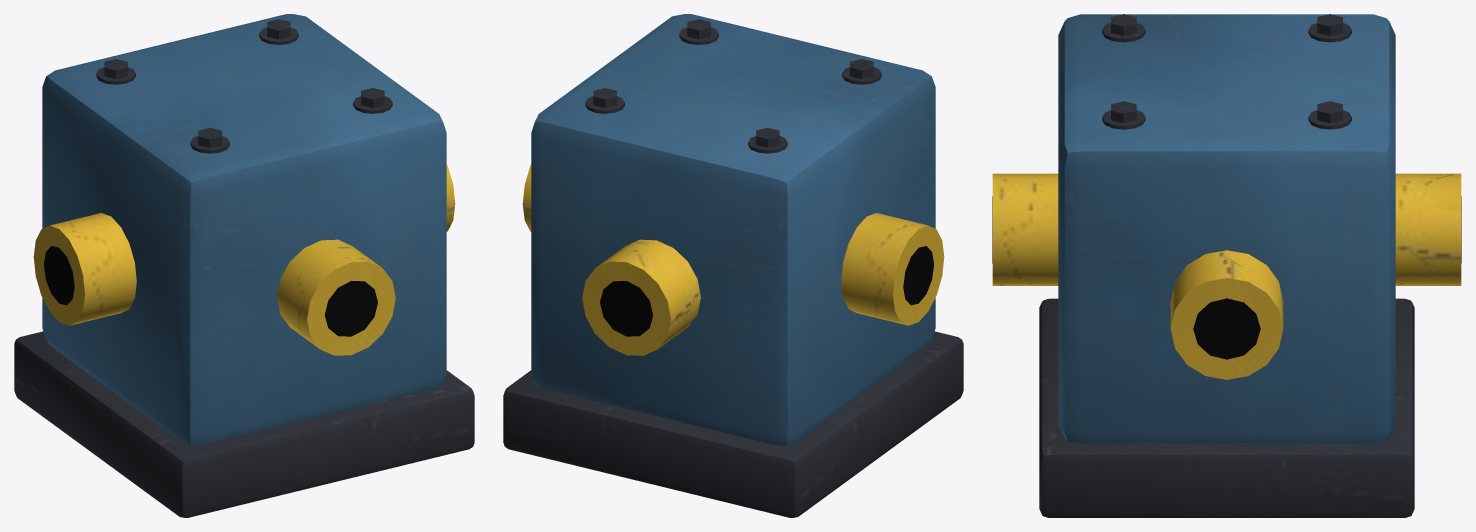
File: railing_join.glb
The picture shows the model from 3 angles, left to right: view 1: azimuth 30°, elevation 25°; view 2: azimuth 150°, elevation 25°; view 3: azimuth 270°, elevation 25°; orthographic projection. The views are drawn at different scales.
Parts seen in each view (by area): view 1: RailingJoinMesh; view 2: RailingJoinMesh; view 3: RailingJoinMesh.
Part boxes in pixels (box(x1,y1,x2,y2)): RailingJoinMesh: box(14, 14, 474, 517); RailingJoinMesh: box(503, 14, 963, 517); RailingJoinMesh: box(992, 14, 1461, 517).
Bounding box in the file's own units: 0.2502 × 0.2226 × 0.2502.
Materials: 4 (3 with a texture image).
